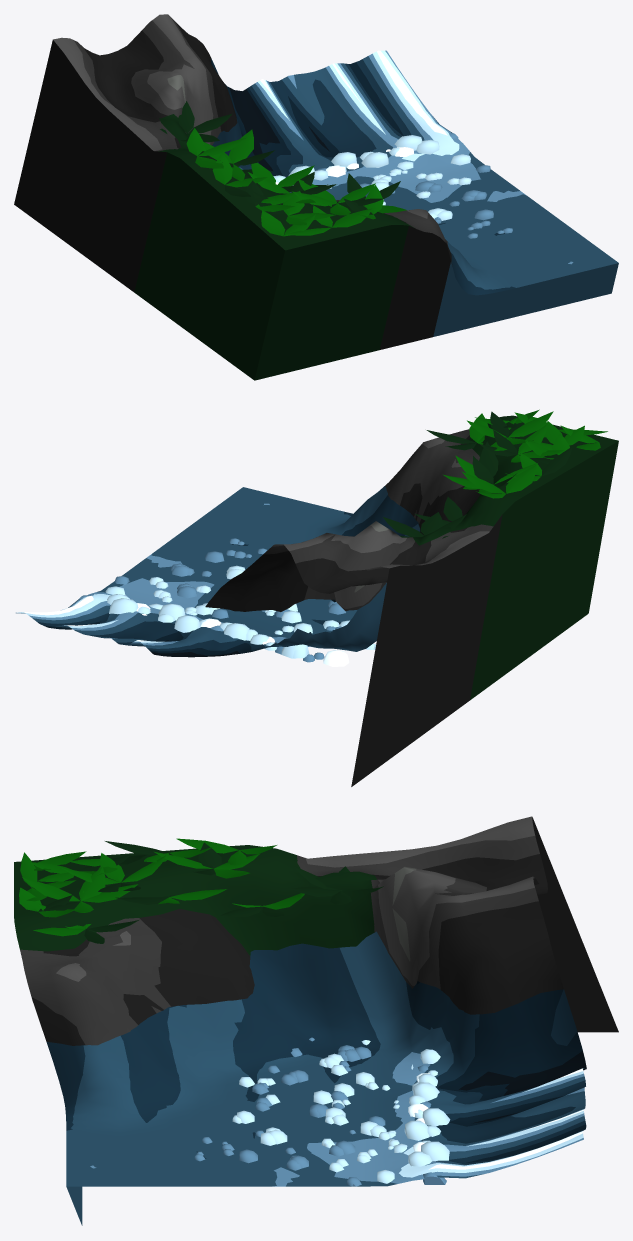
File: torm_fall_bl_278.glb
The picture shows the model from 3 angles, top to bottom: view 1: azimuth 30°, elevation 25°; view 2: azimuth 150°, elevation 25°; view 3: azimuth 270°, elevation 25°; orthographic projection. The views are drawn at different scales.
Parts seen in each view (by area): view 1: torm_fall_bl_278; view 2: torm_fall_bl_278; view 3: torm_fall_bl_278.
Part boxes in pixels (left/top/right/bottom): torm_fall_bl_278: left=14, top=14, right=618, bottom=380; torm_fall_bl_278: left=16, top=409, right=618, bottom=786; torm_fall_bl_278: left=14, top=816, right=618, bottom=1225.
Size of the model in its own units: 24 by 12.43 by 31.57.
